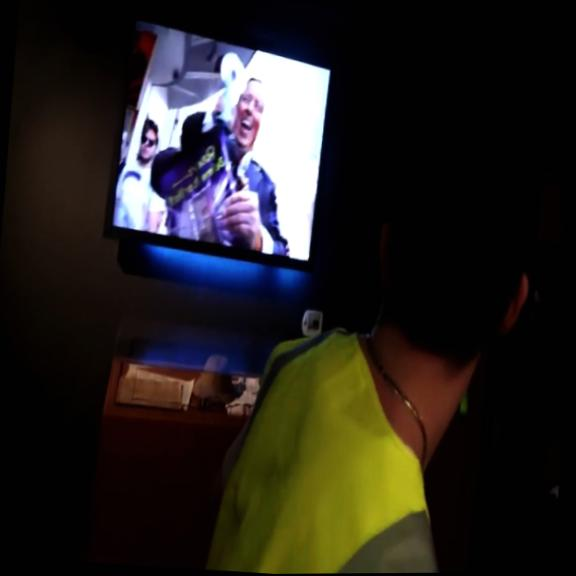safety_vest: (204, 310, 462, 574)
